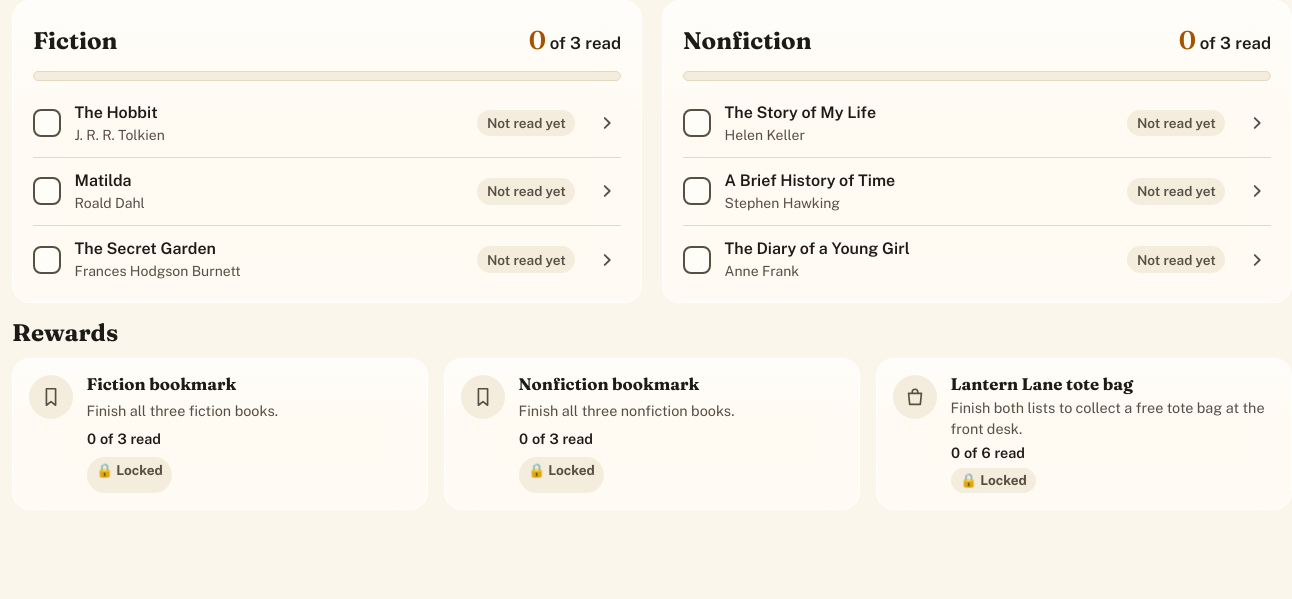
ReadingChallenge › on failure keeps the saved state, explains, and Retry succeeds
Click the checkbox labelled "Matilda Roald Dahl" at x=89, y=191, box left=33, top=171, right=145, bottom=211
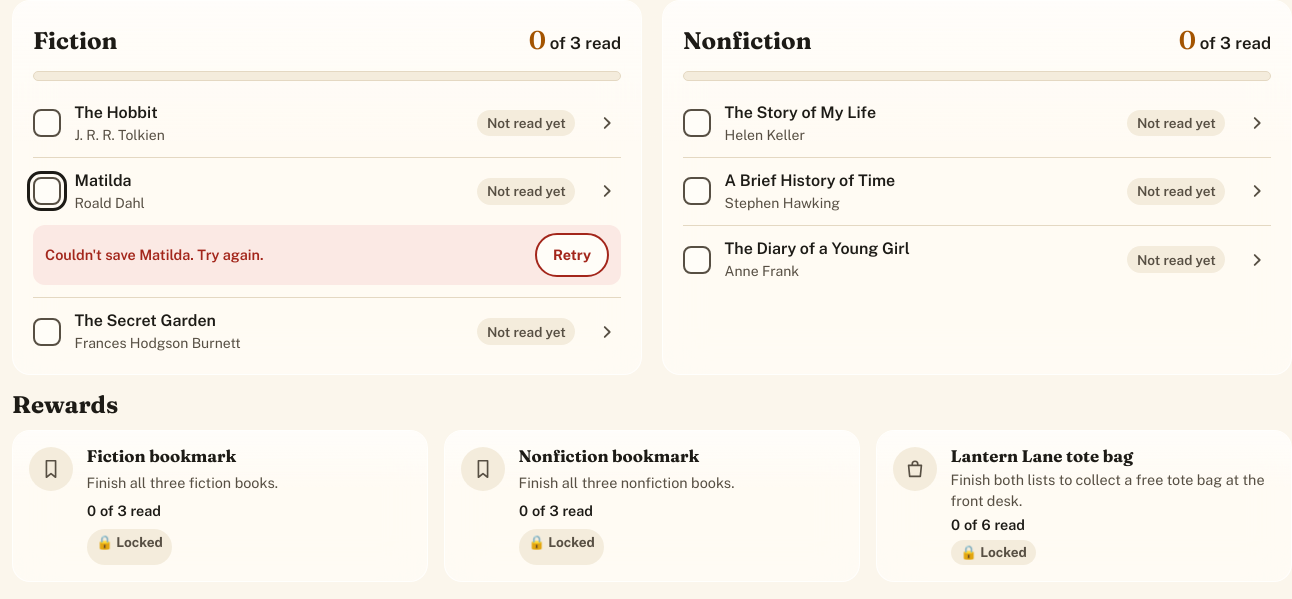
Expected: the element with test id "count-fiction" reads "0 of 3 read", left=529, top=21, right=621, bottom=59
Expected: the message shows "Couldn't save Matilda. Try again.", left=45, top=246, right=264, bottom=263
Click the button with aria-label "Retry saving Matilda" at x=572, y=255, box left=535, top=233, right=609, bottom=277
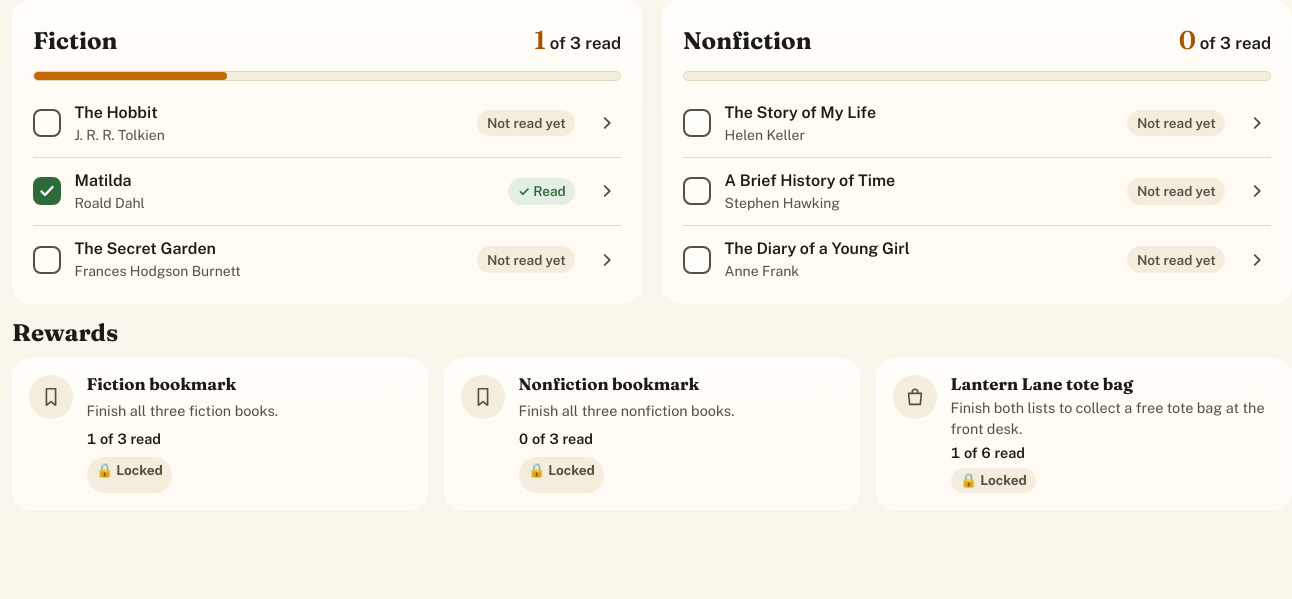
Expected: the checkbox labelled "Matilda Roald Dahl" is checked, left=33, top=171, right=145, bottom=211
Expected: the element with test id "count-fiction" reads "1 of 3 read", left=534, top=21, right=621, bottom=59
Expected: the message "Couldn't save Matilda. Try again. Retry" is gone
